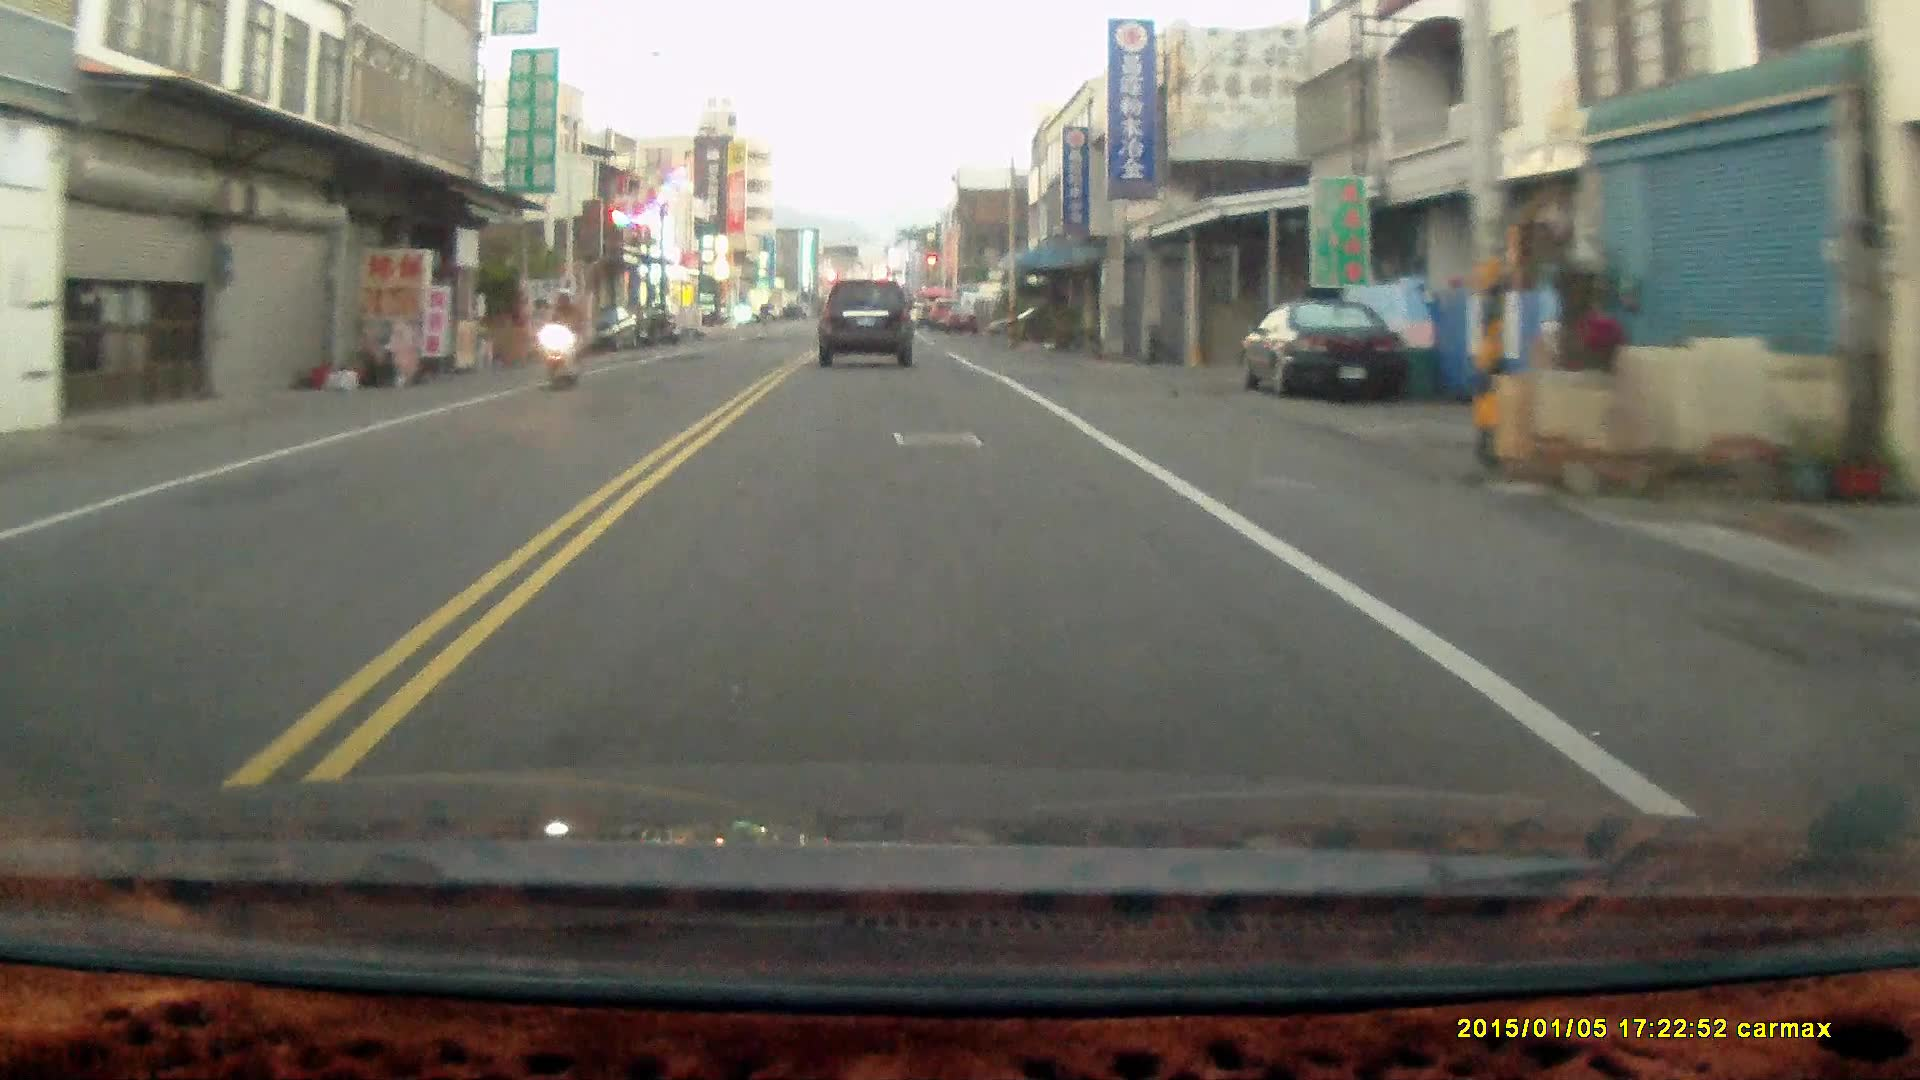rider: (535, 284, 587, 391)
vehicle: (1241, 297, 1414, 403), (818, 275, 916, 364)
